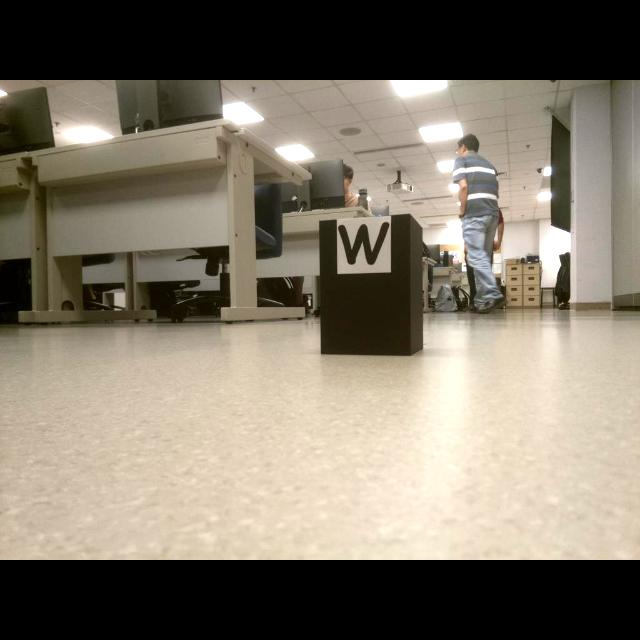W: (338, 221, 390, 265)
